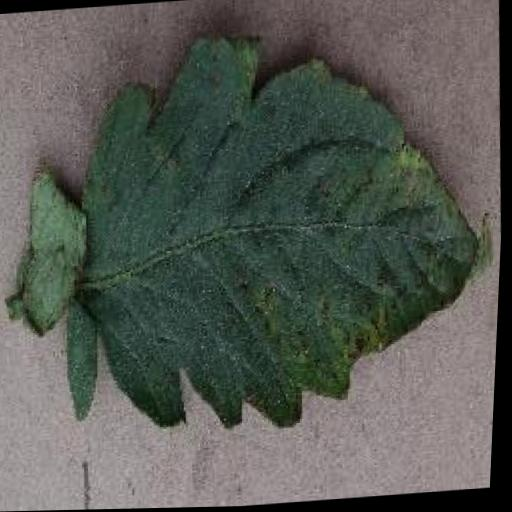Bacterial Spot: (43, 8, 511, 450)
